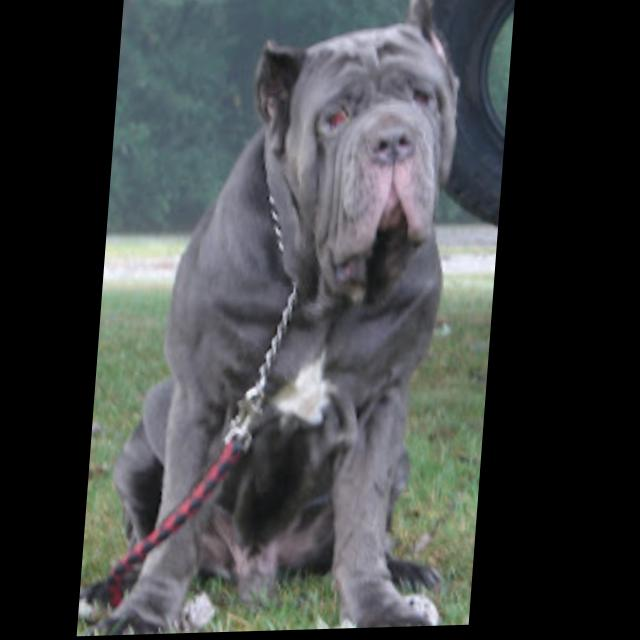mastino_napoletano: (88, 1, 491, 638)
